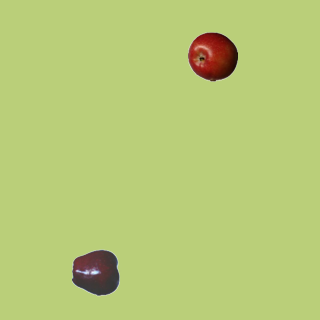Apple Braeburn: (187, 31, 237, 81)
Apple Red Delicious: (71, 247, 121, 297)
